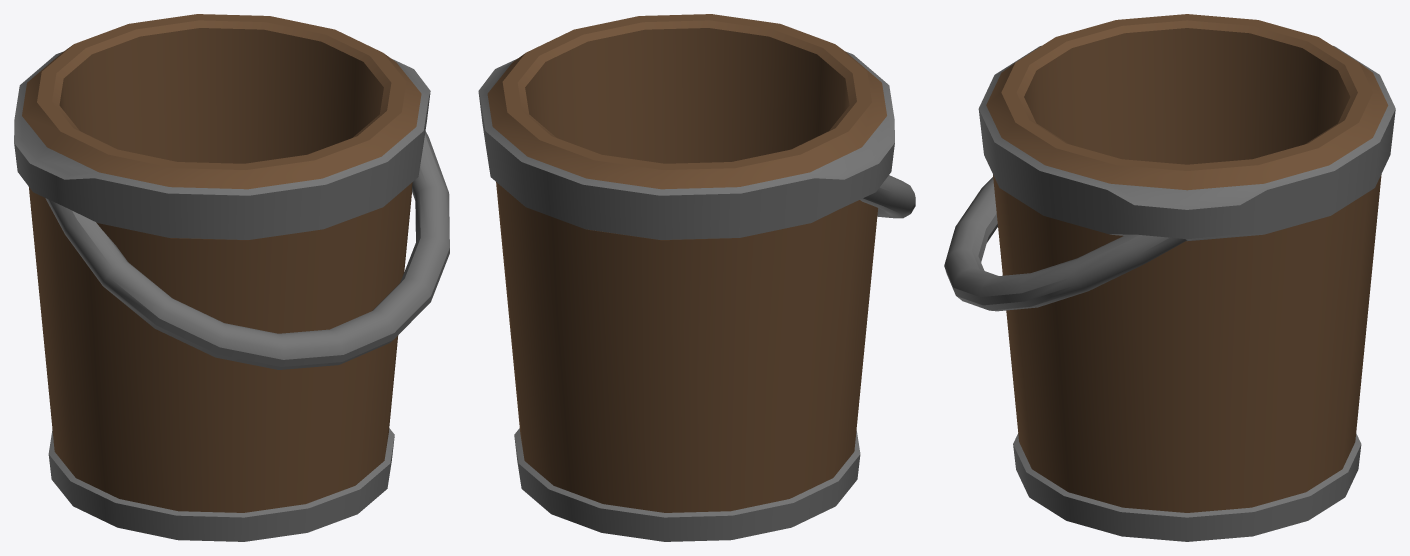
File: bucketHandleDown.fbx
3 renders of one model, left to right at view 1: azimuth 30°, elevation 25°; view 2: azimuth 150°, elevation 25°; view 3: azimuth 270°, elevation 25°, orthographic.
Visible parts, largest first — view 1: Bucket Handle Down; view 2: Bucket Handle Down; view 3: Bucket Handle Down.
Part boxes in pixels (x1=…): Bucket Handle Down: x1=14, y1=14, x2=449, y2=541; Bucket Handle Down: x1=478, y1=14, x2=915, y2=541; Bucket Handle Down: x1=944, y1=14, x2=1395, y2=541.
Size of the model in its own units: 31.88 by 32.54 by 30.14.
